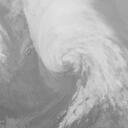cyclone: (37, 24, 127, 98)
